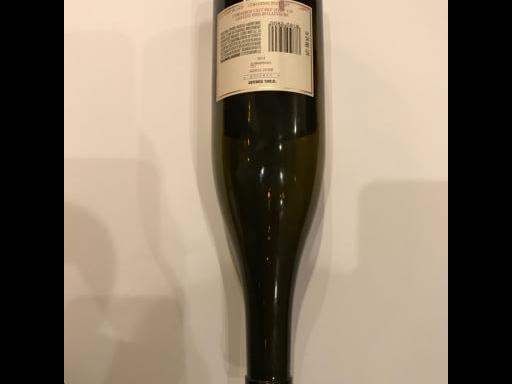alcohol: (211, 0, 319, 384)
glass: (211, 0, 319, 384)
sodocalcique: (211, 0, 319, 384)
